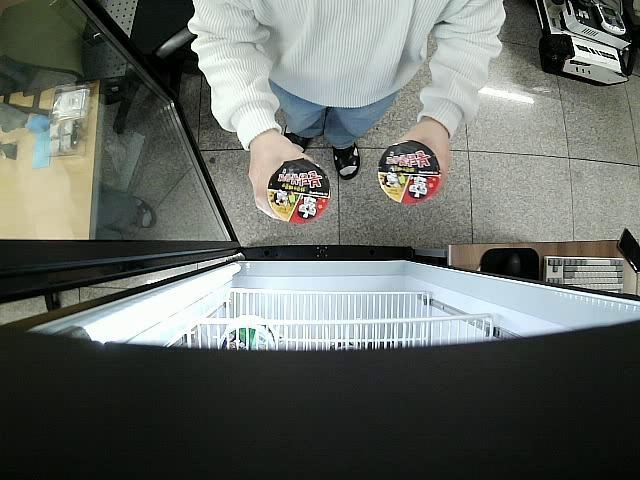08_buldak_S: (378, 140, 446, 204), (266, 158, 330, 226)
